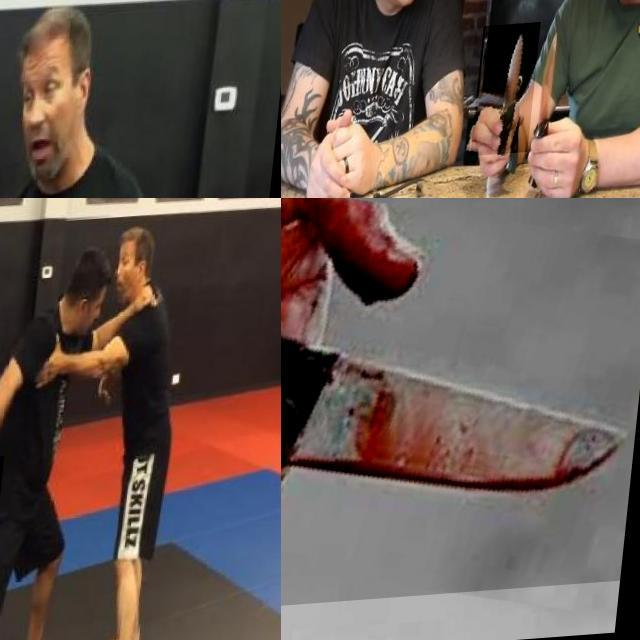-: (281, 198, 640, 622), (533, 27, 603, 172), (479, 28, 547, 162), (0, 460, 28, 546)
